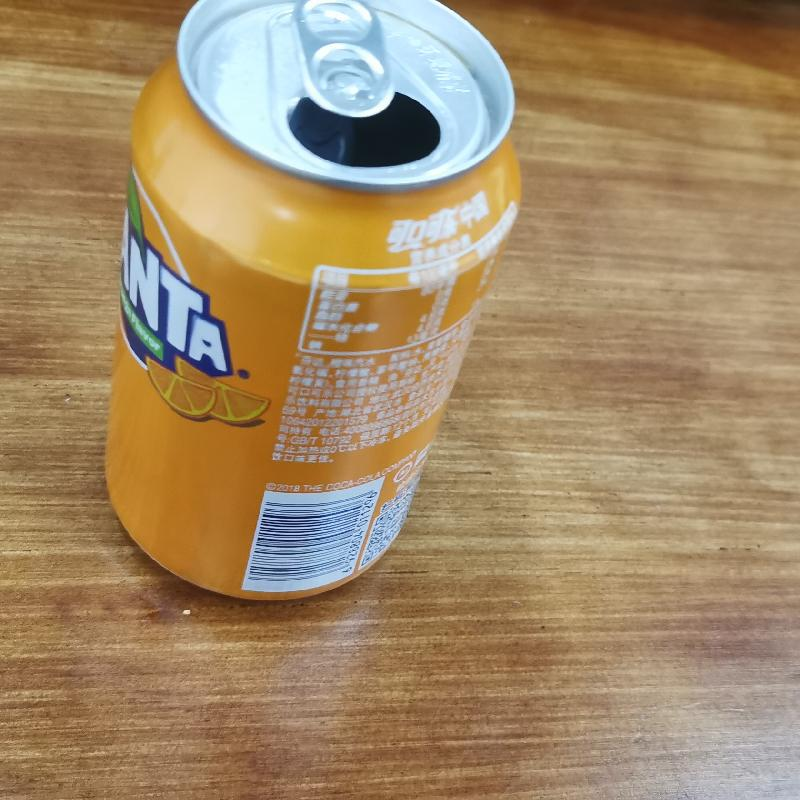cans: (96, 0, 526, 632)
